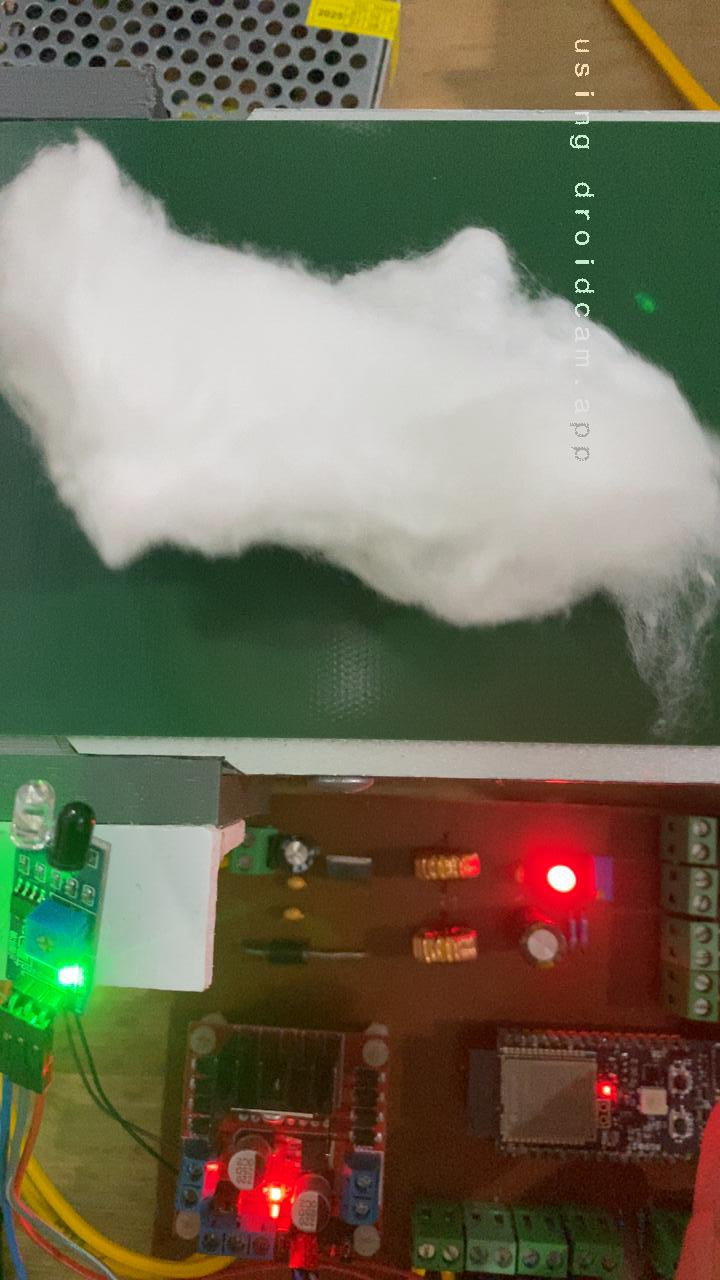cotton: (0, 121, 720, 681)
